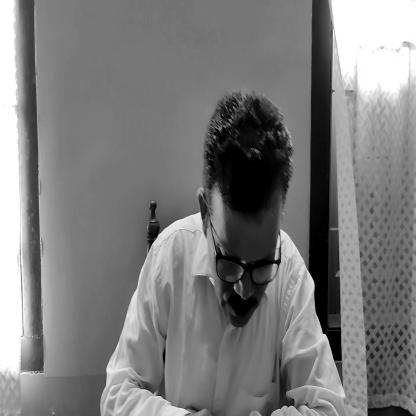Normal: (207, 112, 283, 326)
